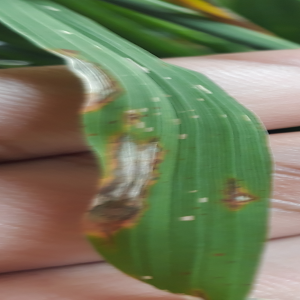Rice_Blast: (83, 121, 170, 247), (53, 44, 130, 117), (213, 173, 258, 222)
